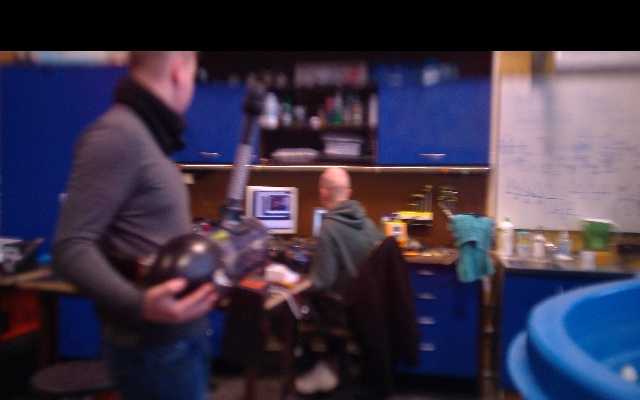black: (226, 142, 255, 206)
